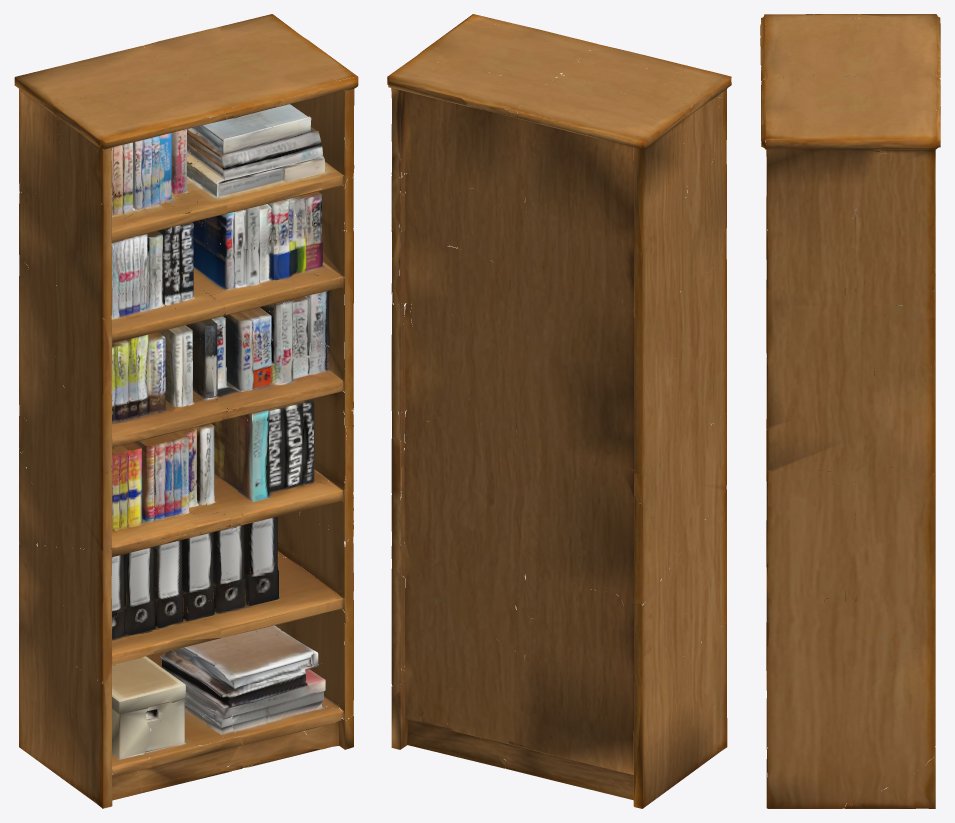
File: bookshelf.glb
The picture shows the model from 3 angles, left to right: view 1: azimuth 30°, elevation 25°; view 2: azimuth 150°, elevation 25°; view 3: azimuth 270°, elevation 25°; orthographic projection.
Parts seen in each view (by area): view 1: bookshelf; view 2: bookshelf; view 3: bookshelf.
Part boxes in pixels (x1=…): bookshelf: x1=14, y1=14, x2=358, y2=808; bookshelf: x1=387, y1=14, x2=731, y2=808; bookshelf: x1=760, y1=14, x2=940, y2=808.
Bounding box in the file's own units: 0.7258 × 1.8 × 0.4378.
Materials: 1 (1 with a texture image).
